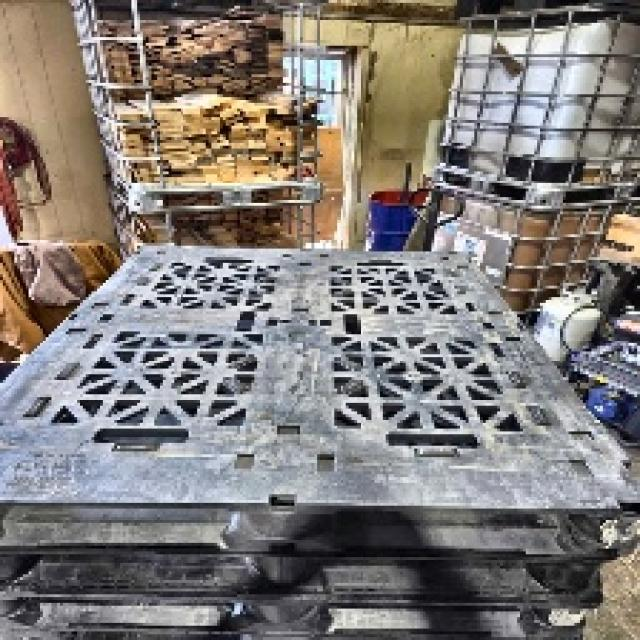igps: (0, 237, 640, 640), (0, 539, 611, 614), (0, 583, 594, 640)
